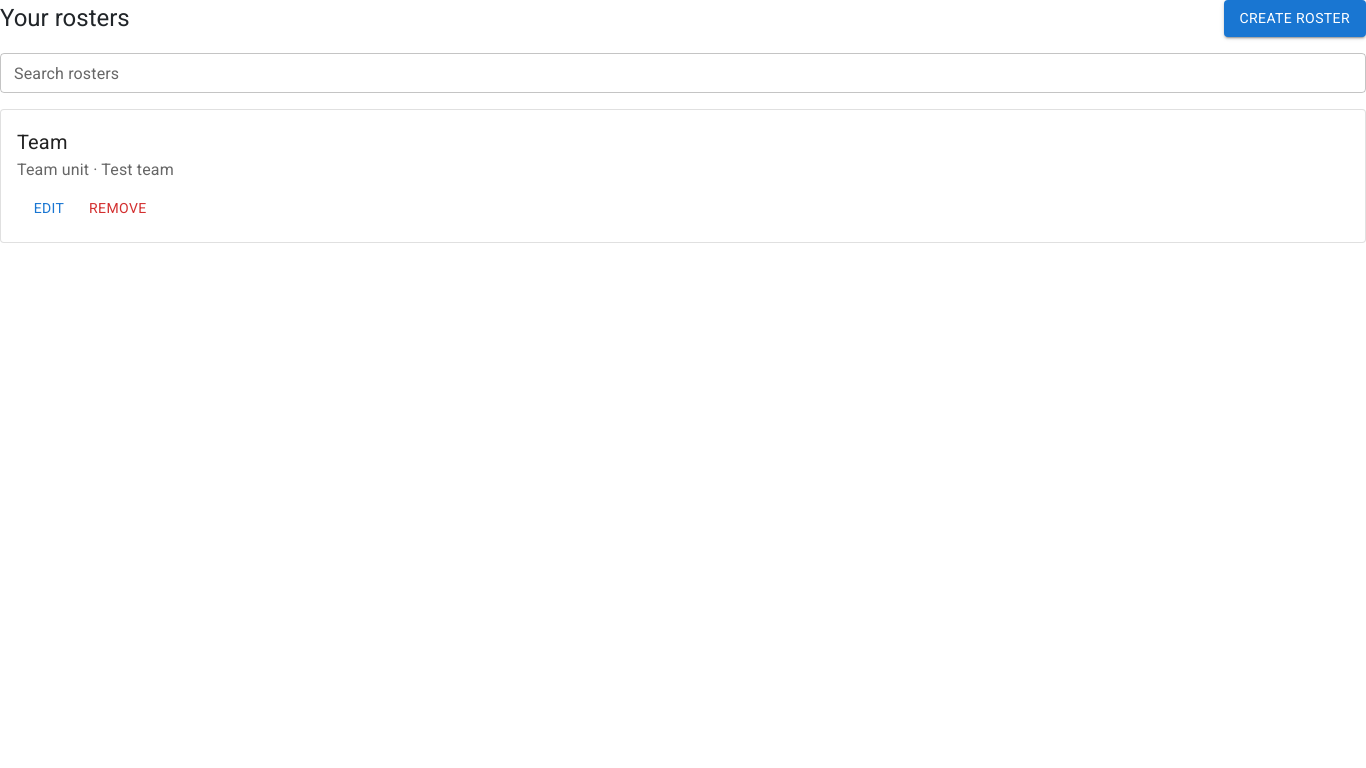
Test case: roster removal requires confirmation and updates the list only after success
Click the button "Remove": [118, 208] box [81, 190, 155, 226]
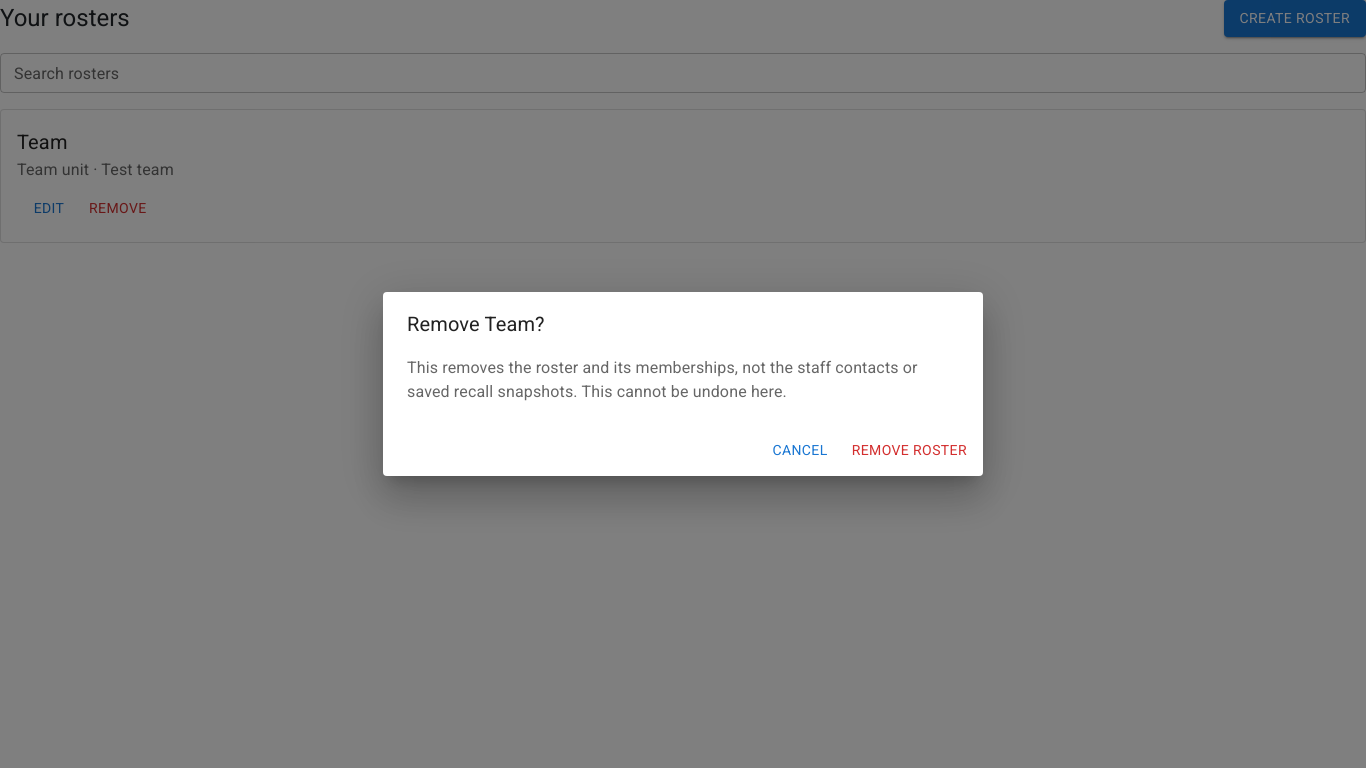
Click the button "Cancel": [800, 450] box [764, 432, 836, 468]
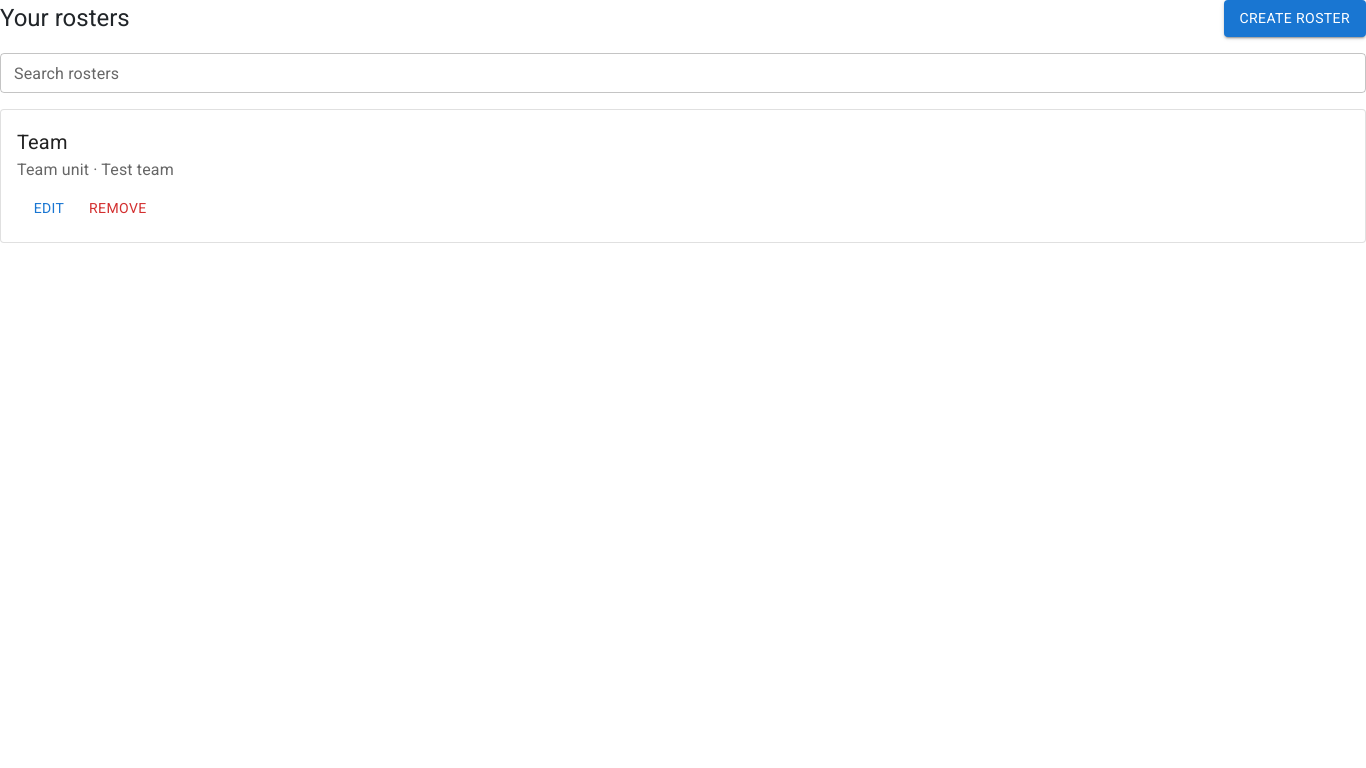
Click the button "Remove": [118, 208] box [81, 190, 155, 226]
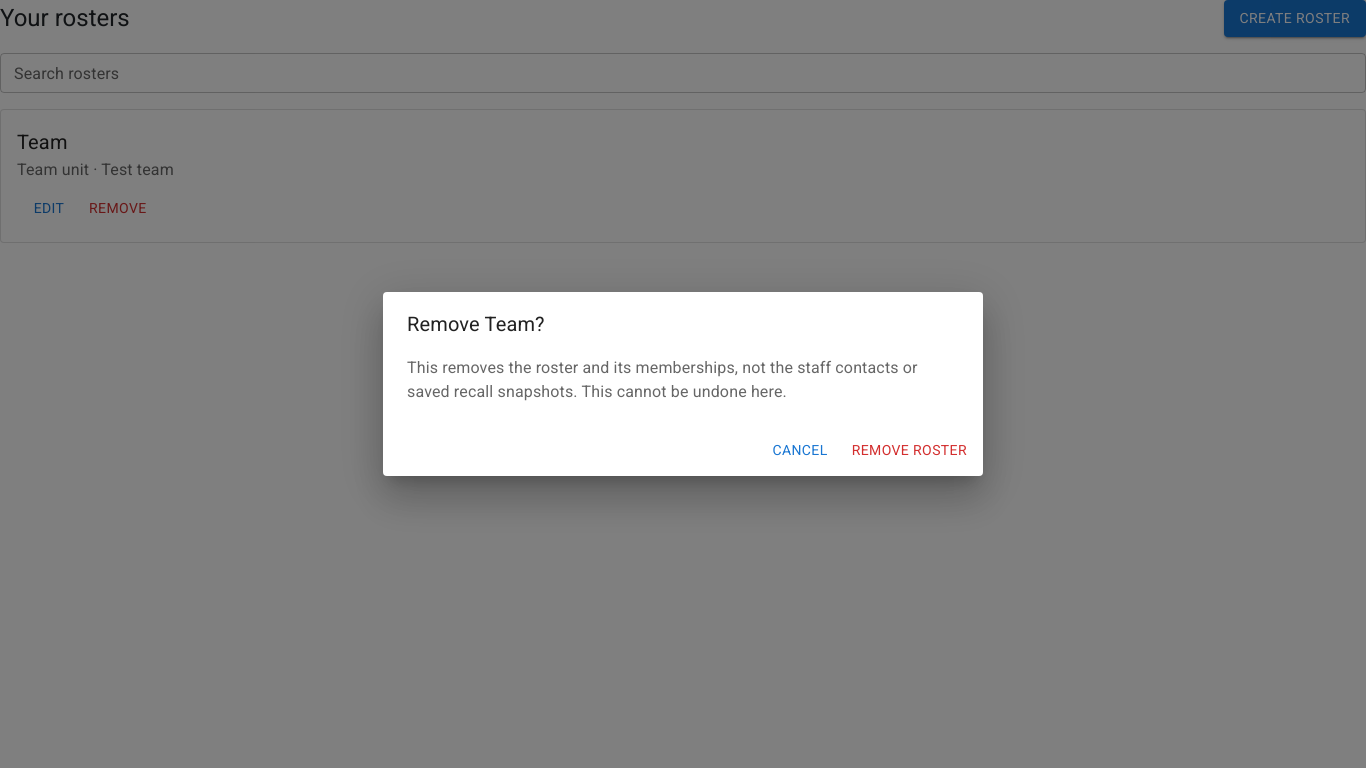
Click the button "Remove roster": [909, 450] box [844, 432, 975, 468]
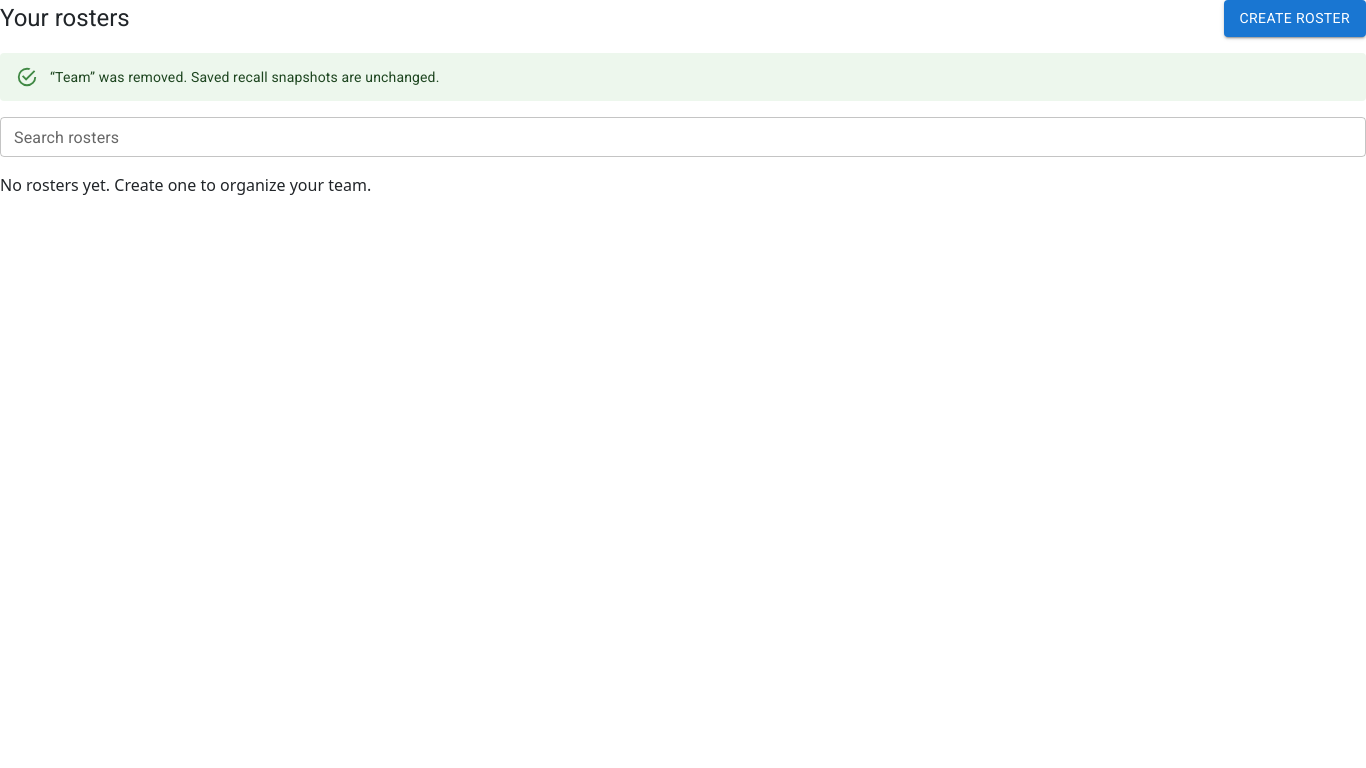
Expected: the text "No rosters yet. Create one to organize your team." is shown, [0, 174, 371, 196]
